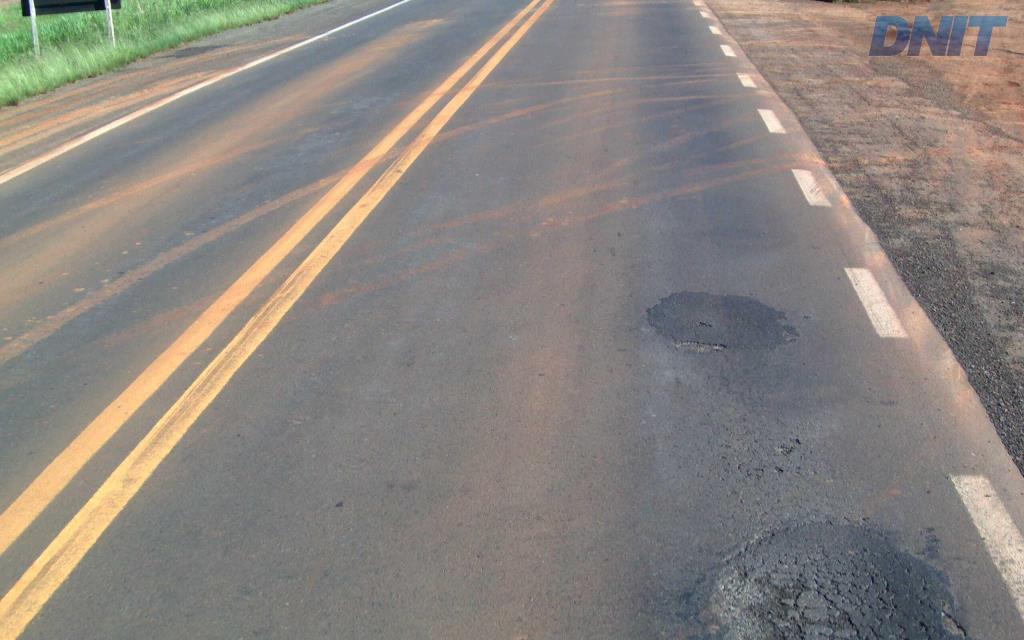pothole: (660, 328, 732, 357)
